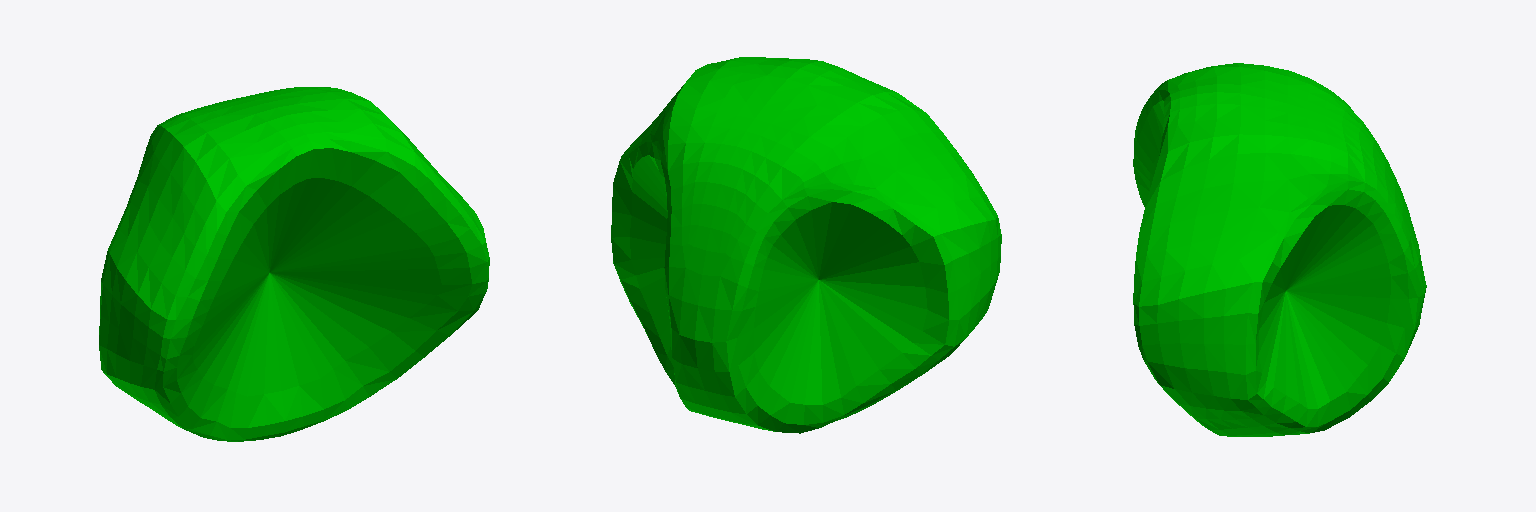
The model's file is Pelvis.obj.
3 renders of one model, left to right at view 1: azimuth 30°, elevation 25°; view 2: azimuth 150°, elevation 25°; view 3: azimuth 270°, elevation 25°, orthographic.
Parts seen in each view (by area): view 1: Pelvis_Alpha_Surface.008; view 2: Pelvis_Alpha_Surface.008; view 3: Pelvis_Alpha_Surface.008.
Boxes of the visible parts, box(x1,y1,x2,y2) form: Pelvis_Alpha_Surface.008: box(99, 87, 489, 441); Pelvis_Alpha_Surface.008: box(611, 57, 1001, 433); Pelvis_Alpha_Surface.008: box(1133, 63, 1426, 436).
Size of the model in its own units: 0.3382 by 0.3012 by 0.2443.